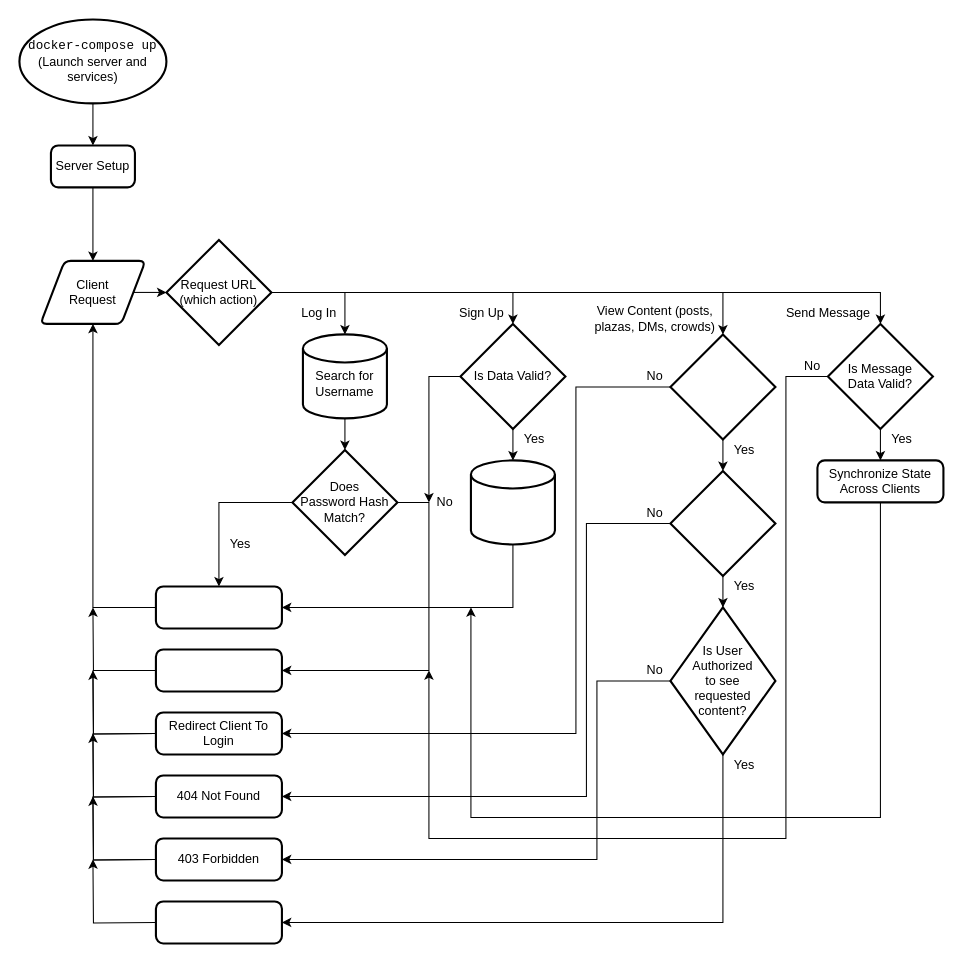
The diagram is 962 pixels wide and 962 high, and some of its shapes have lost their labels. The shapes that lost their labels are listed below. From the top down, each one's box as (x1, y1, x2, y2) in pixels, then its label:
(669, 333, 776, 440): Is User Signed in?
(469, 459, 555, 545): Add User
(669, 469, 776, 576): Does requested content exist?
(154, 585, 282, 629): Send Success Response to Client
(154, 648, 282, 692): Send Failure Response to Client
(154, 900, 282, 944): Respond with Requested Content
